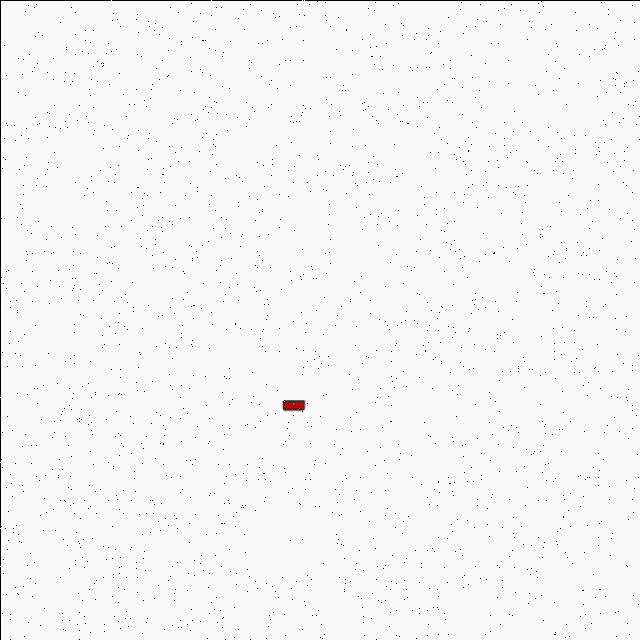3070b: (276, 397, 308, 412)
